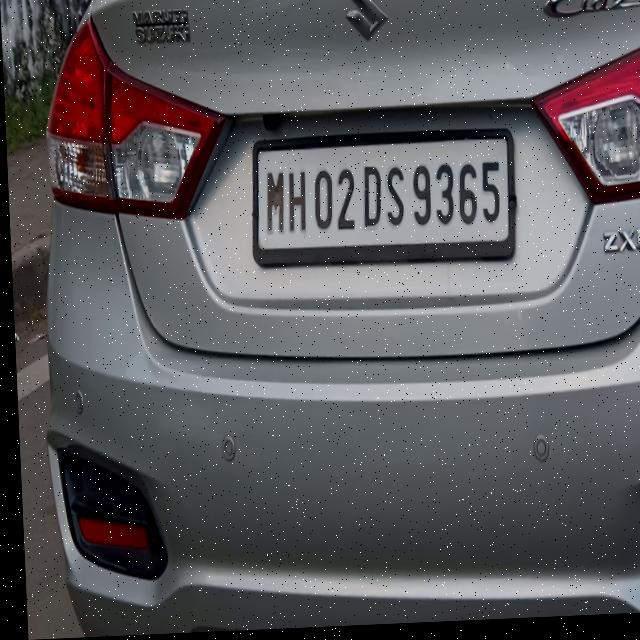plate: (246, 130, 516, 276)
